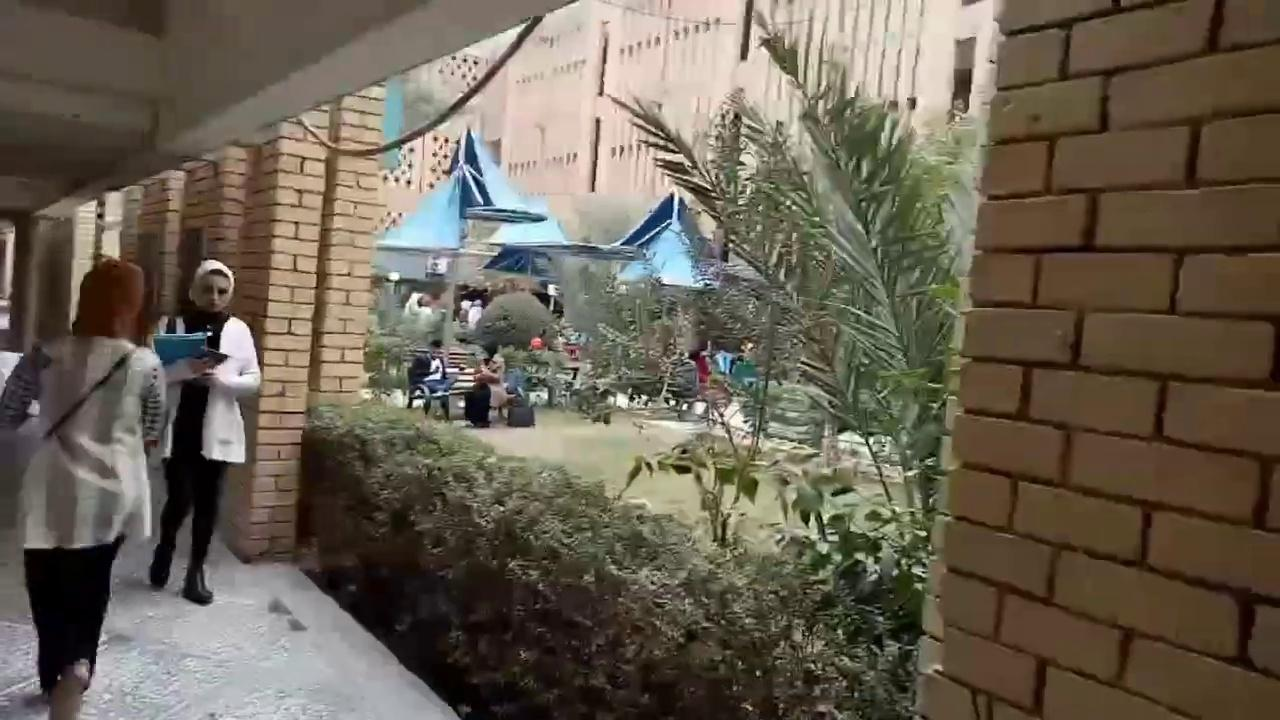person: (13, 257, 168, 719), (147, 258, 262, 604), (0, 339, 51, 429), (408, 339, 451, 421), (464, 354, 507, 427)
tree: (297, 398, 926, 718), (603, 18, 978, 552), (465, 288, 565, 423), (468, 288, 557, 354)
